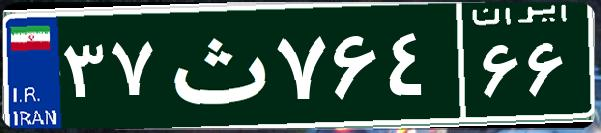3: (57, 26, 110, 107)
4: (385, 28, 445, 110)
6: (330, 28, 385, 110), (475, 38, 525, 113), (525, 38, 570, 115)
7: (273, 28, 330, 110), (110, 28, 158, 105)
ث: (158, 15, 273, 115)
